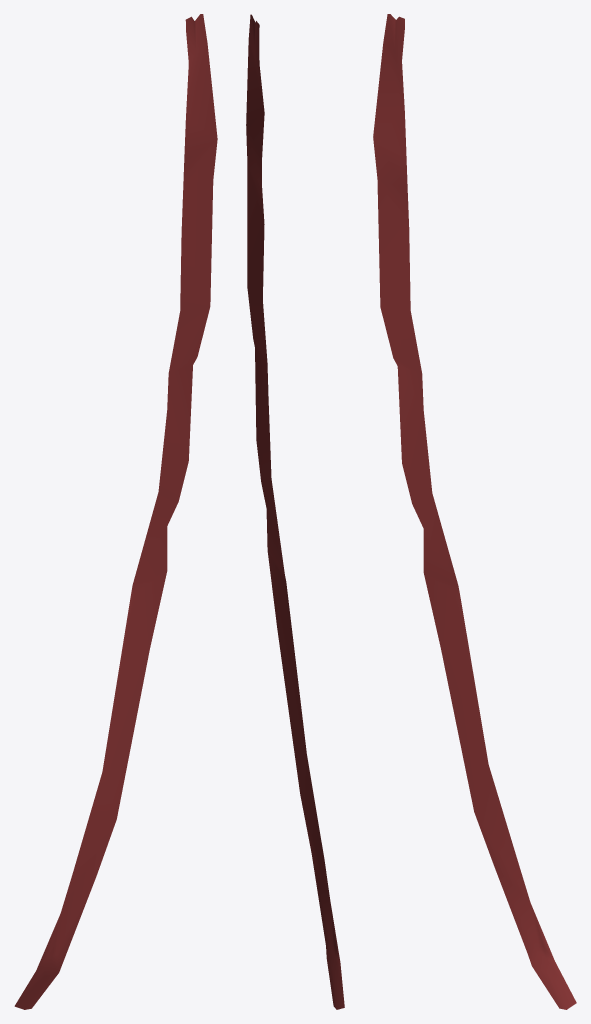
Rendered from rectus-abdominis-muscle-el.glb.
3 renders of one model, left to right at view 1: azimuth 90°, elevation 25°; view 2: azimuth 210°, elevation 25°; view 3: azimuth 270°, elevation 25°, orthographic. The views are drawn at different scales.
Visible parts, largest first — view 1: Rectus abdominis muscle.el; view 2: Rectus abdominis muscle.el; view 3: Rectus abdominis muscle.el.
Boxes of the visible parts, x1,y1,x2,y2 form: Rectus abdominis muscle.el: (14,14,217,1009); Rectus abdominis muscle.el: (246,14,344,1009); Rectus abdominis muscle.el: (373,14,576,1009).
Bounding box in the file's own units: 0.00596 × 0.3936 × 0.0729.
